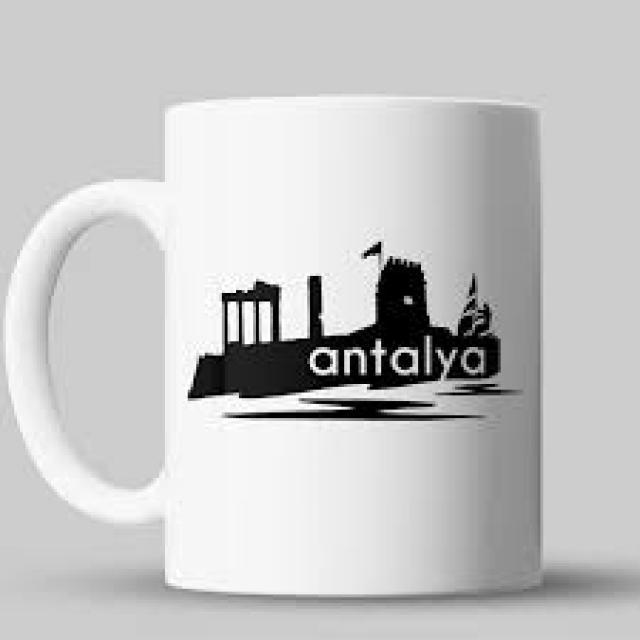taza: (4, 97, 544, 602)
